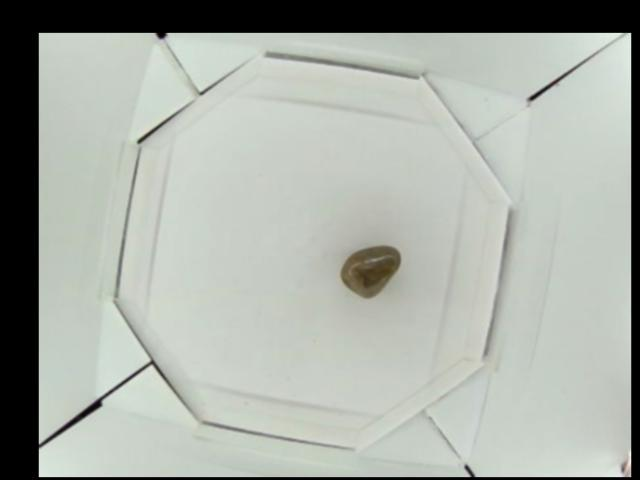Pebble: (338, 242, 402, 298)
